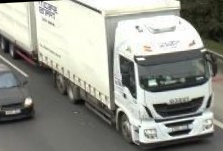car: (0, 61, 37, 129)
